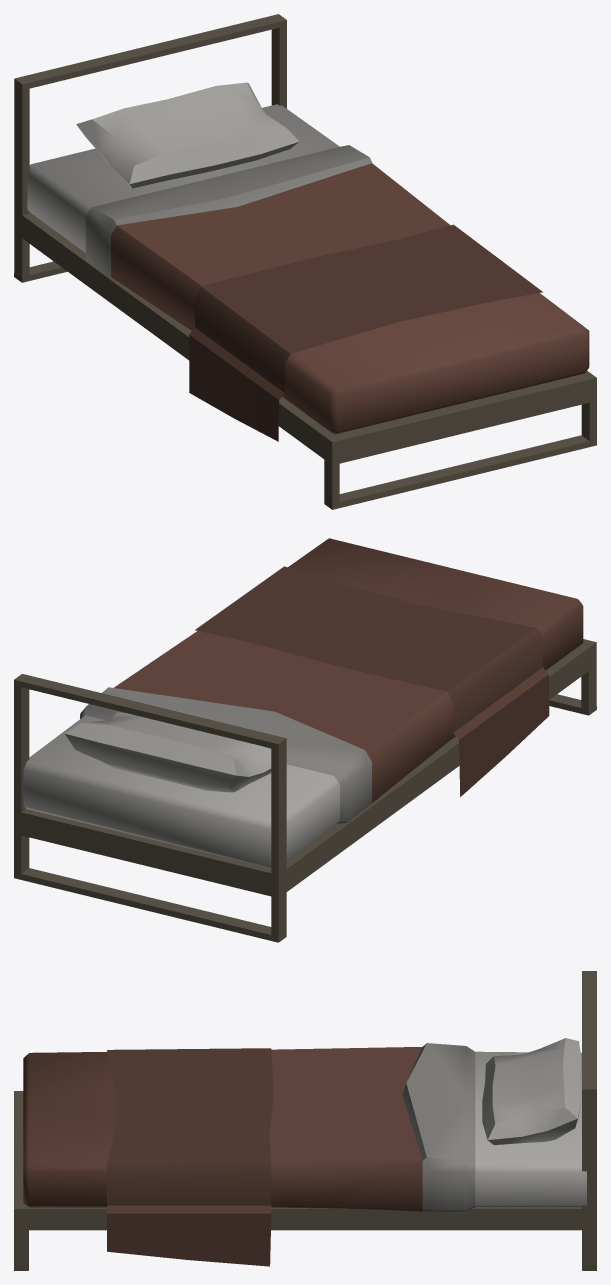
The model's file is bed-single.glb.
3 views of the same model, one above another, from view 1: azimuth 30°, elevation 25°; view 2: azimuth 150°, elevation 25°; view 3: azimuth 270°, elevation 25° (orthographic). The views are drawn at different scales.
Visible parts, largest first — view 1: Bed_Single; view 2: Bed_Single; view 3: Bed_Single.
Boxes of the visible parts, x1,y1,x2,y2 form: Bed_Single: [14, 14, 596, 509]; Bed_Single: [14, 538, 596, 942]; Bed_Single: [14, 971, 596, 1270].
Bounding box in the file's own units: 1.98 × 1.35 × 3.94.
